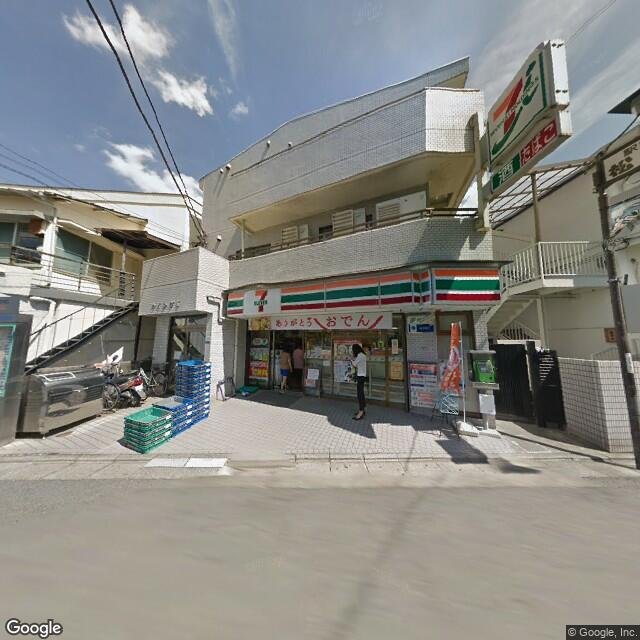7-eleven: (226, 260, 502, 319), (487, 41, 552, 153)
